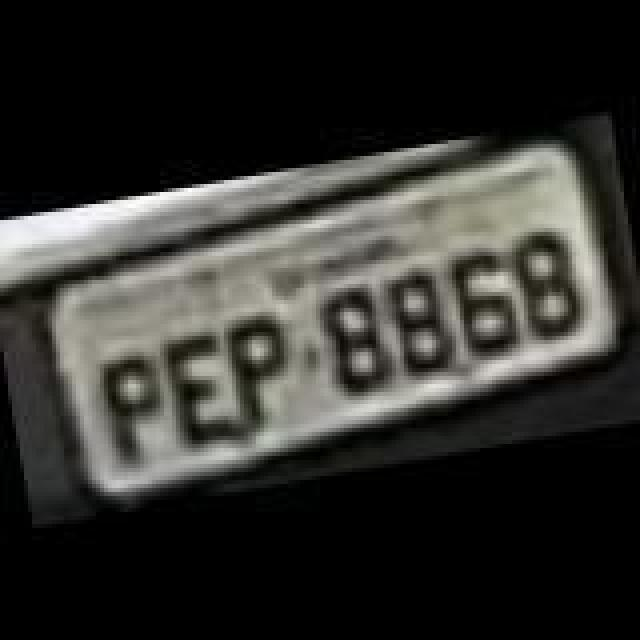6: (446, 238, 530, 362)
8: (508, 222, 588, 338), (376, 262, 456, 378), (314, 280, 390, 392)
E: (156, 330, 244, 454)
P: (224, 310, 304, 434), (96, 346, 176, 470)
